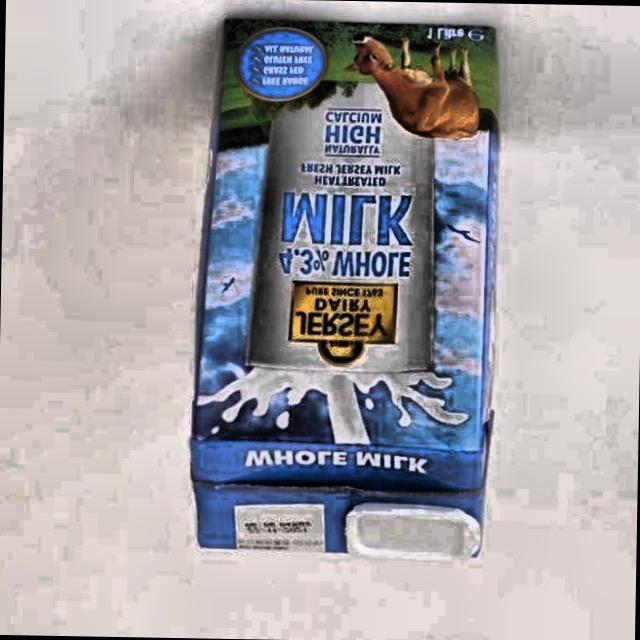cardboard: (186, 17, 503, 561)
